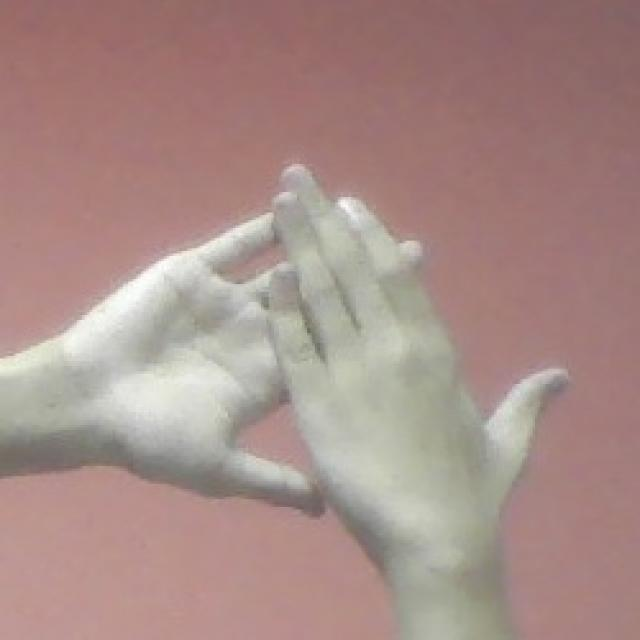Alphabet-H: (55, 157, 573, 548)
